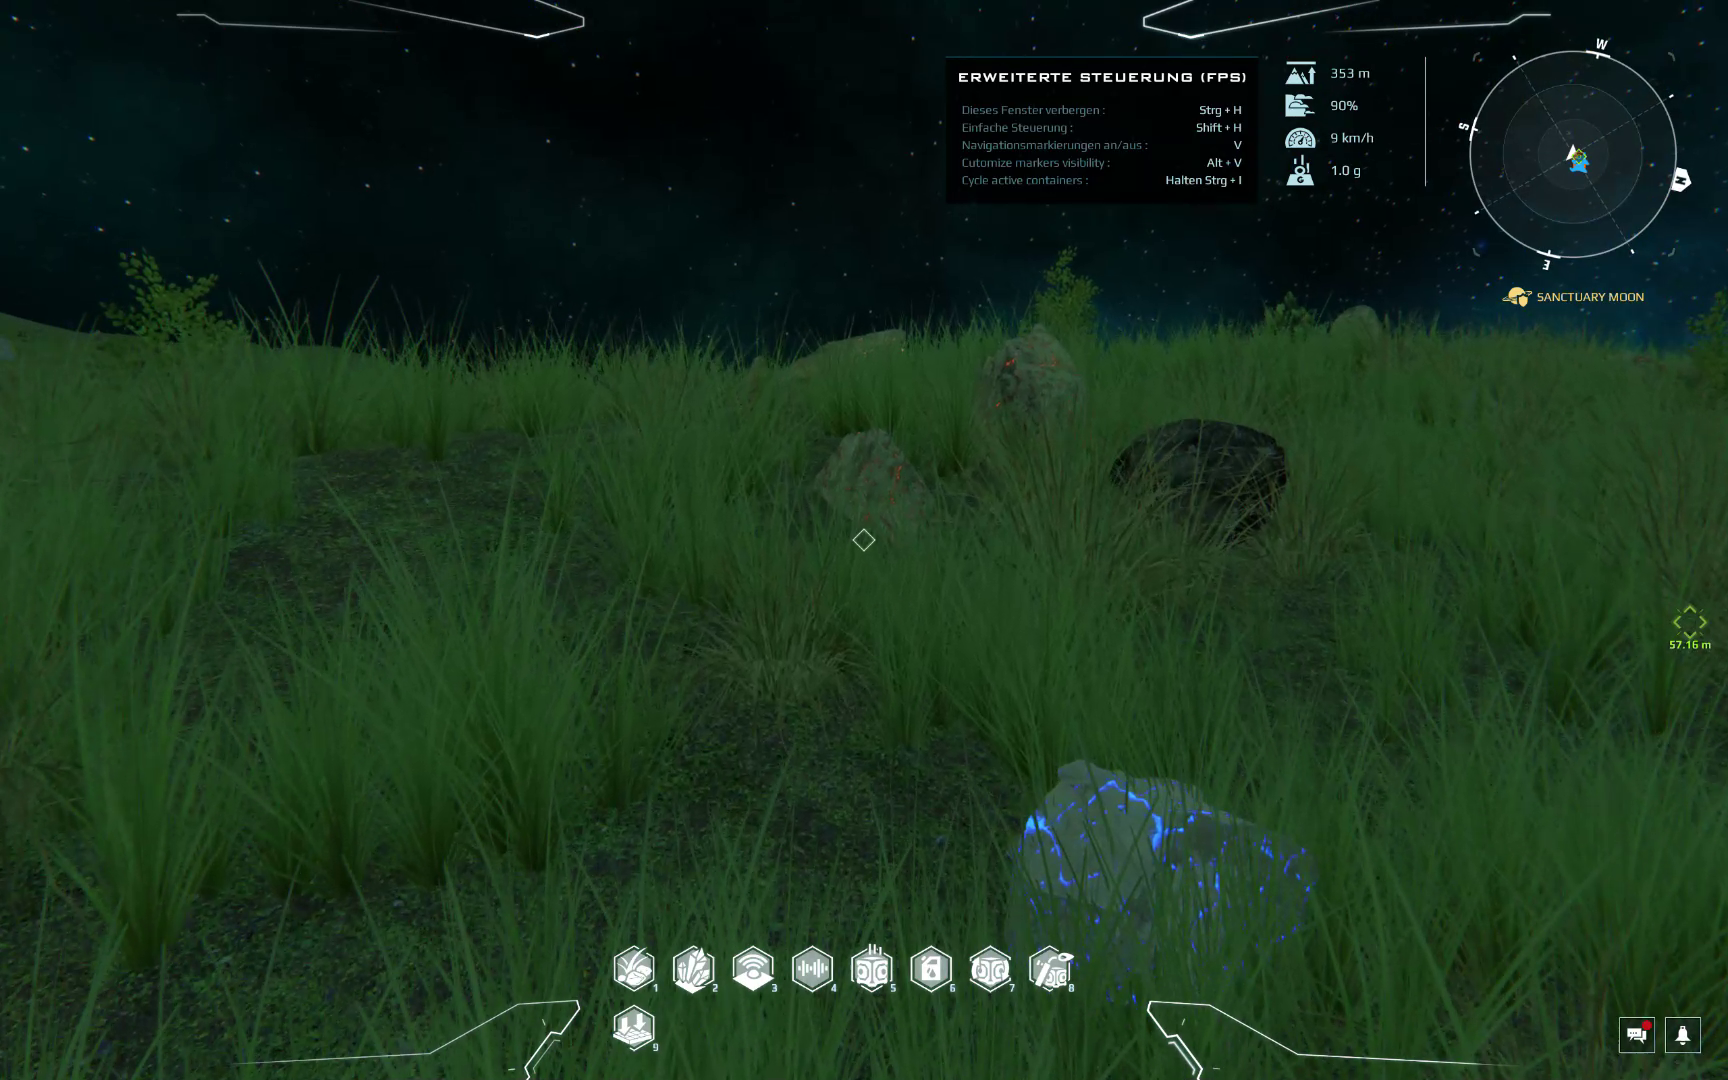Ore: (1009, 759, 1317, 998), (1110, 416, 1289, 536), (807, 426, 934, 545), (979, 325, 1082, 454), (787, 327, 907, 375)
